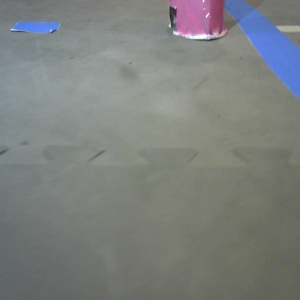right: (168, 1, 230, 41)
